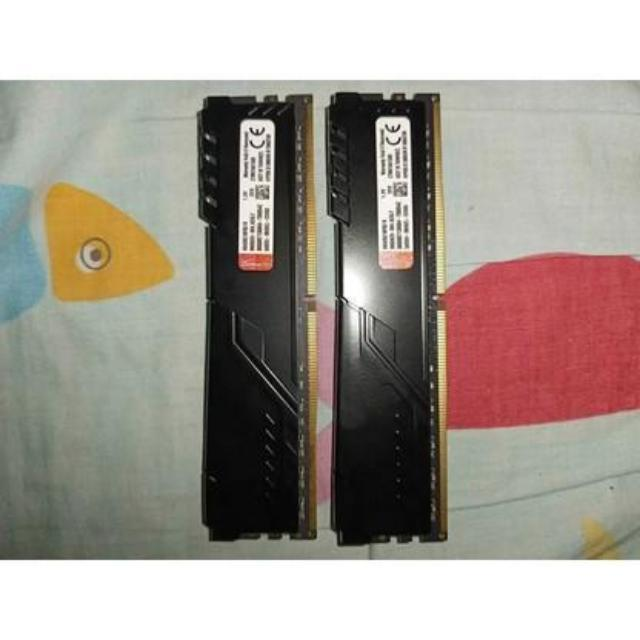RAM: (192, 90, 326, 552), (326, 87, 452, 544)
